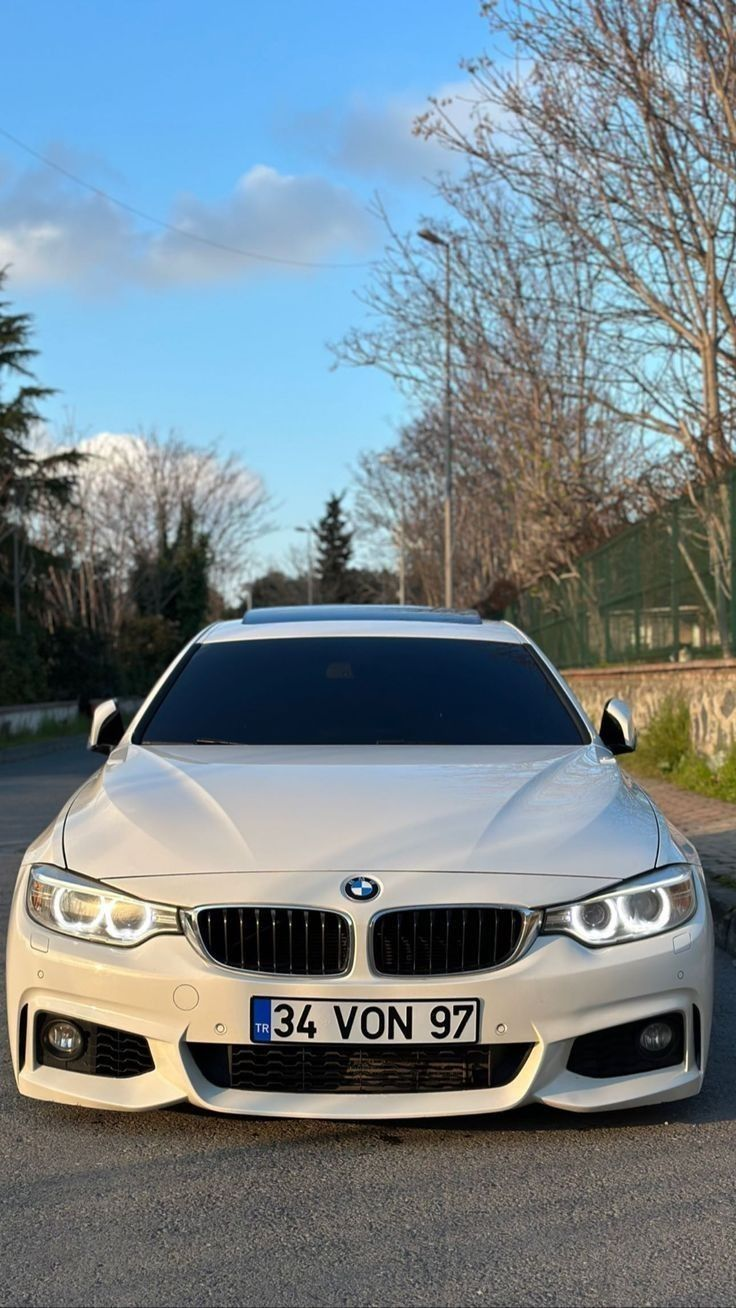plate: (243, 997, 481, 1039)
